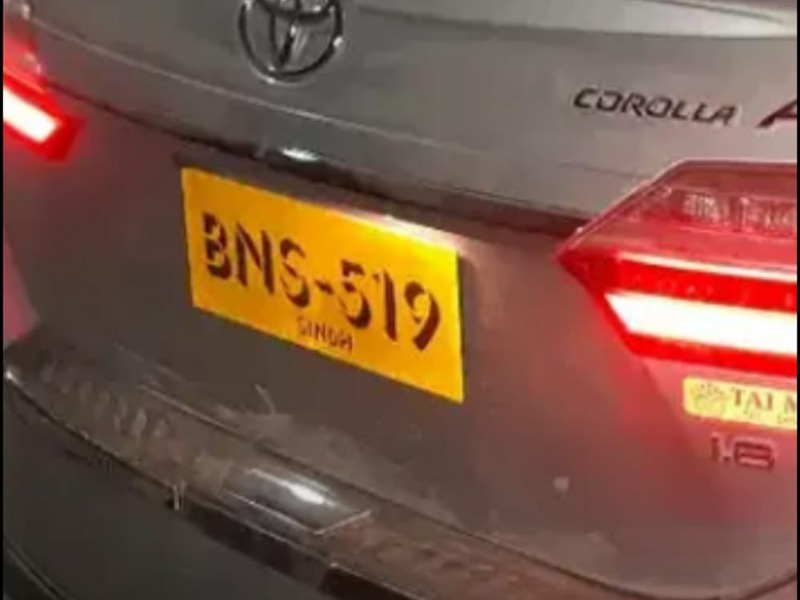License Plate: (176, 180, 452, 368)
